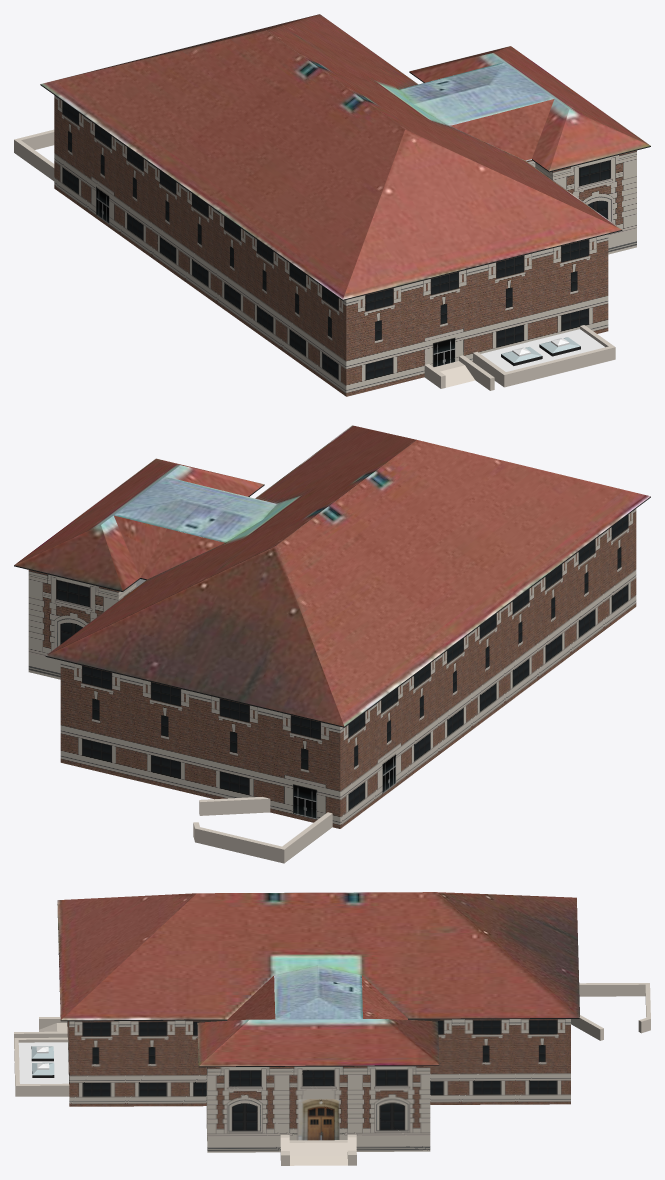
Rendered from HAAS.fbx.
3 views of the same model, one above another, from view 1: azimuth 30°, elevation 25°; view 2: azimuth 150°, elevation 25°; view 3: azimuth 270°, elevation 25° (orthographic). The views are drawn at different scales.
Parts seen in each view (by area): view 1: Model; view 2: Model; view 3: Model.
Part boxes in pixels (left/top/right/bottom): Model: left=14, top=14, right=650, bottom=396; Model: left=14, top=425, right=650, bottom=863; Model: left=14, top=892, right=650, bottom=1165.
Size of the model in its own units: 1693 by 700 by 2560.
